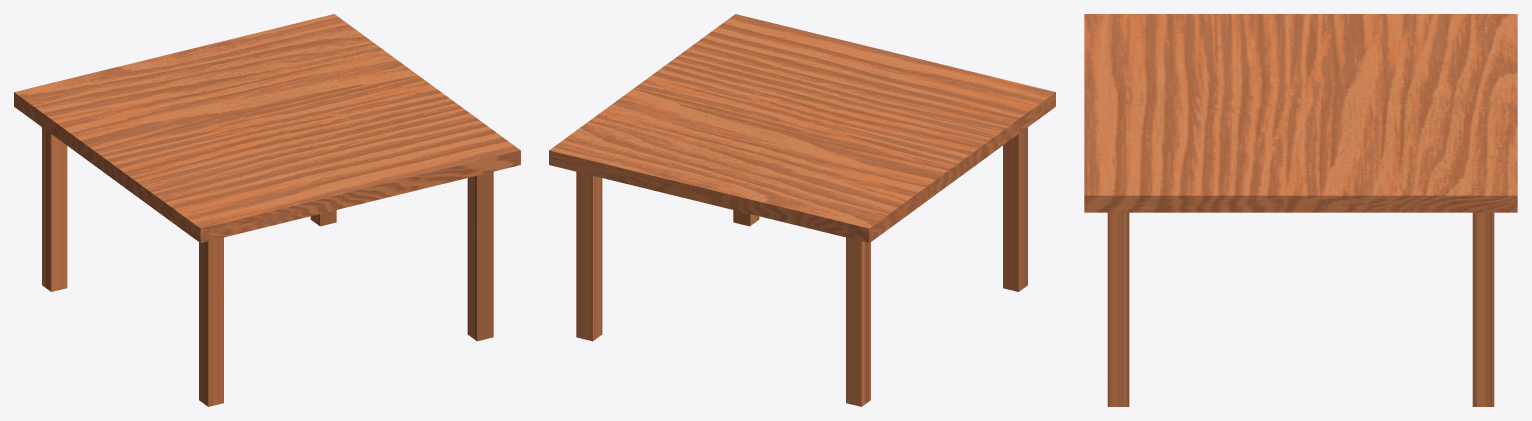
Rendered from stół-silnik.fbx.
3 views of the same model, side by side, from view 1: azimuth 30°, elevation 25°; view 2: azimuth 150°, elevation 25°; view 3: azimuth 270°, elevation 25° (orthographic). The views are drawn at different scales.
Parts seen in each view (by area): view 1: Cube; view 2: Cube; view 3: Cube.
Part boxes in pixels (x1,y1,x2,y2): Cube: [14, 14, 520, 406]; Cube: [549, 14, 1055, 406]; Cube: [1084, 14, 1517, 406].
Bounding box in the file's own units: 119 × 67.48 × 120.
